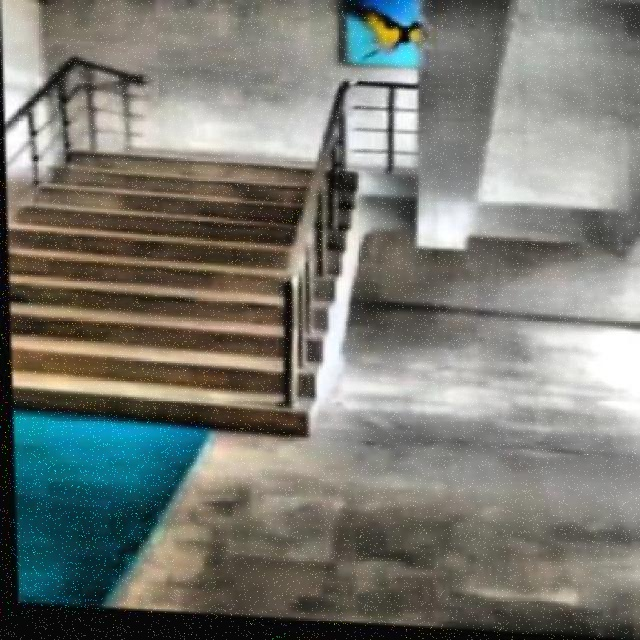stair: (6, 151, 379, 446)
